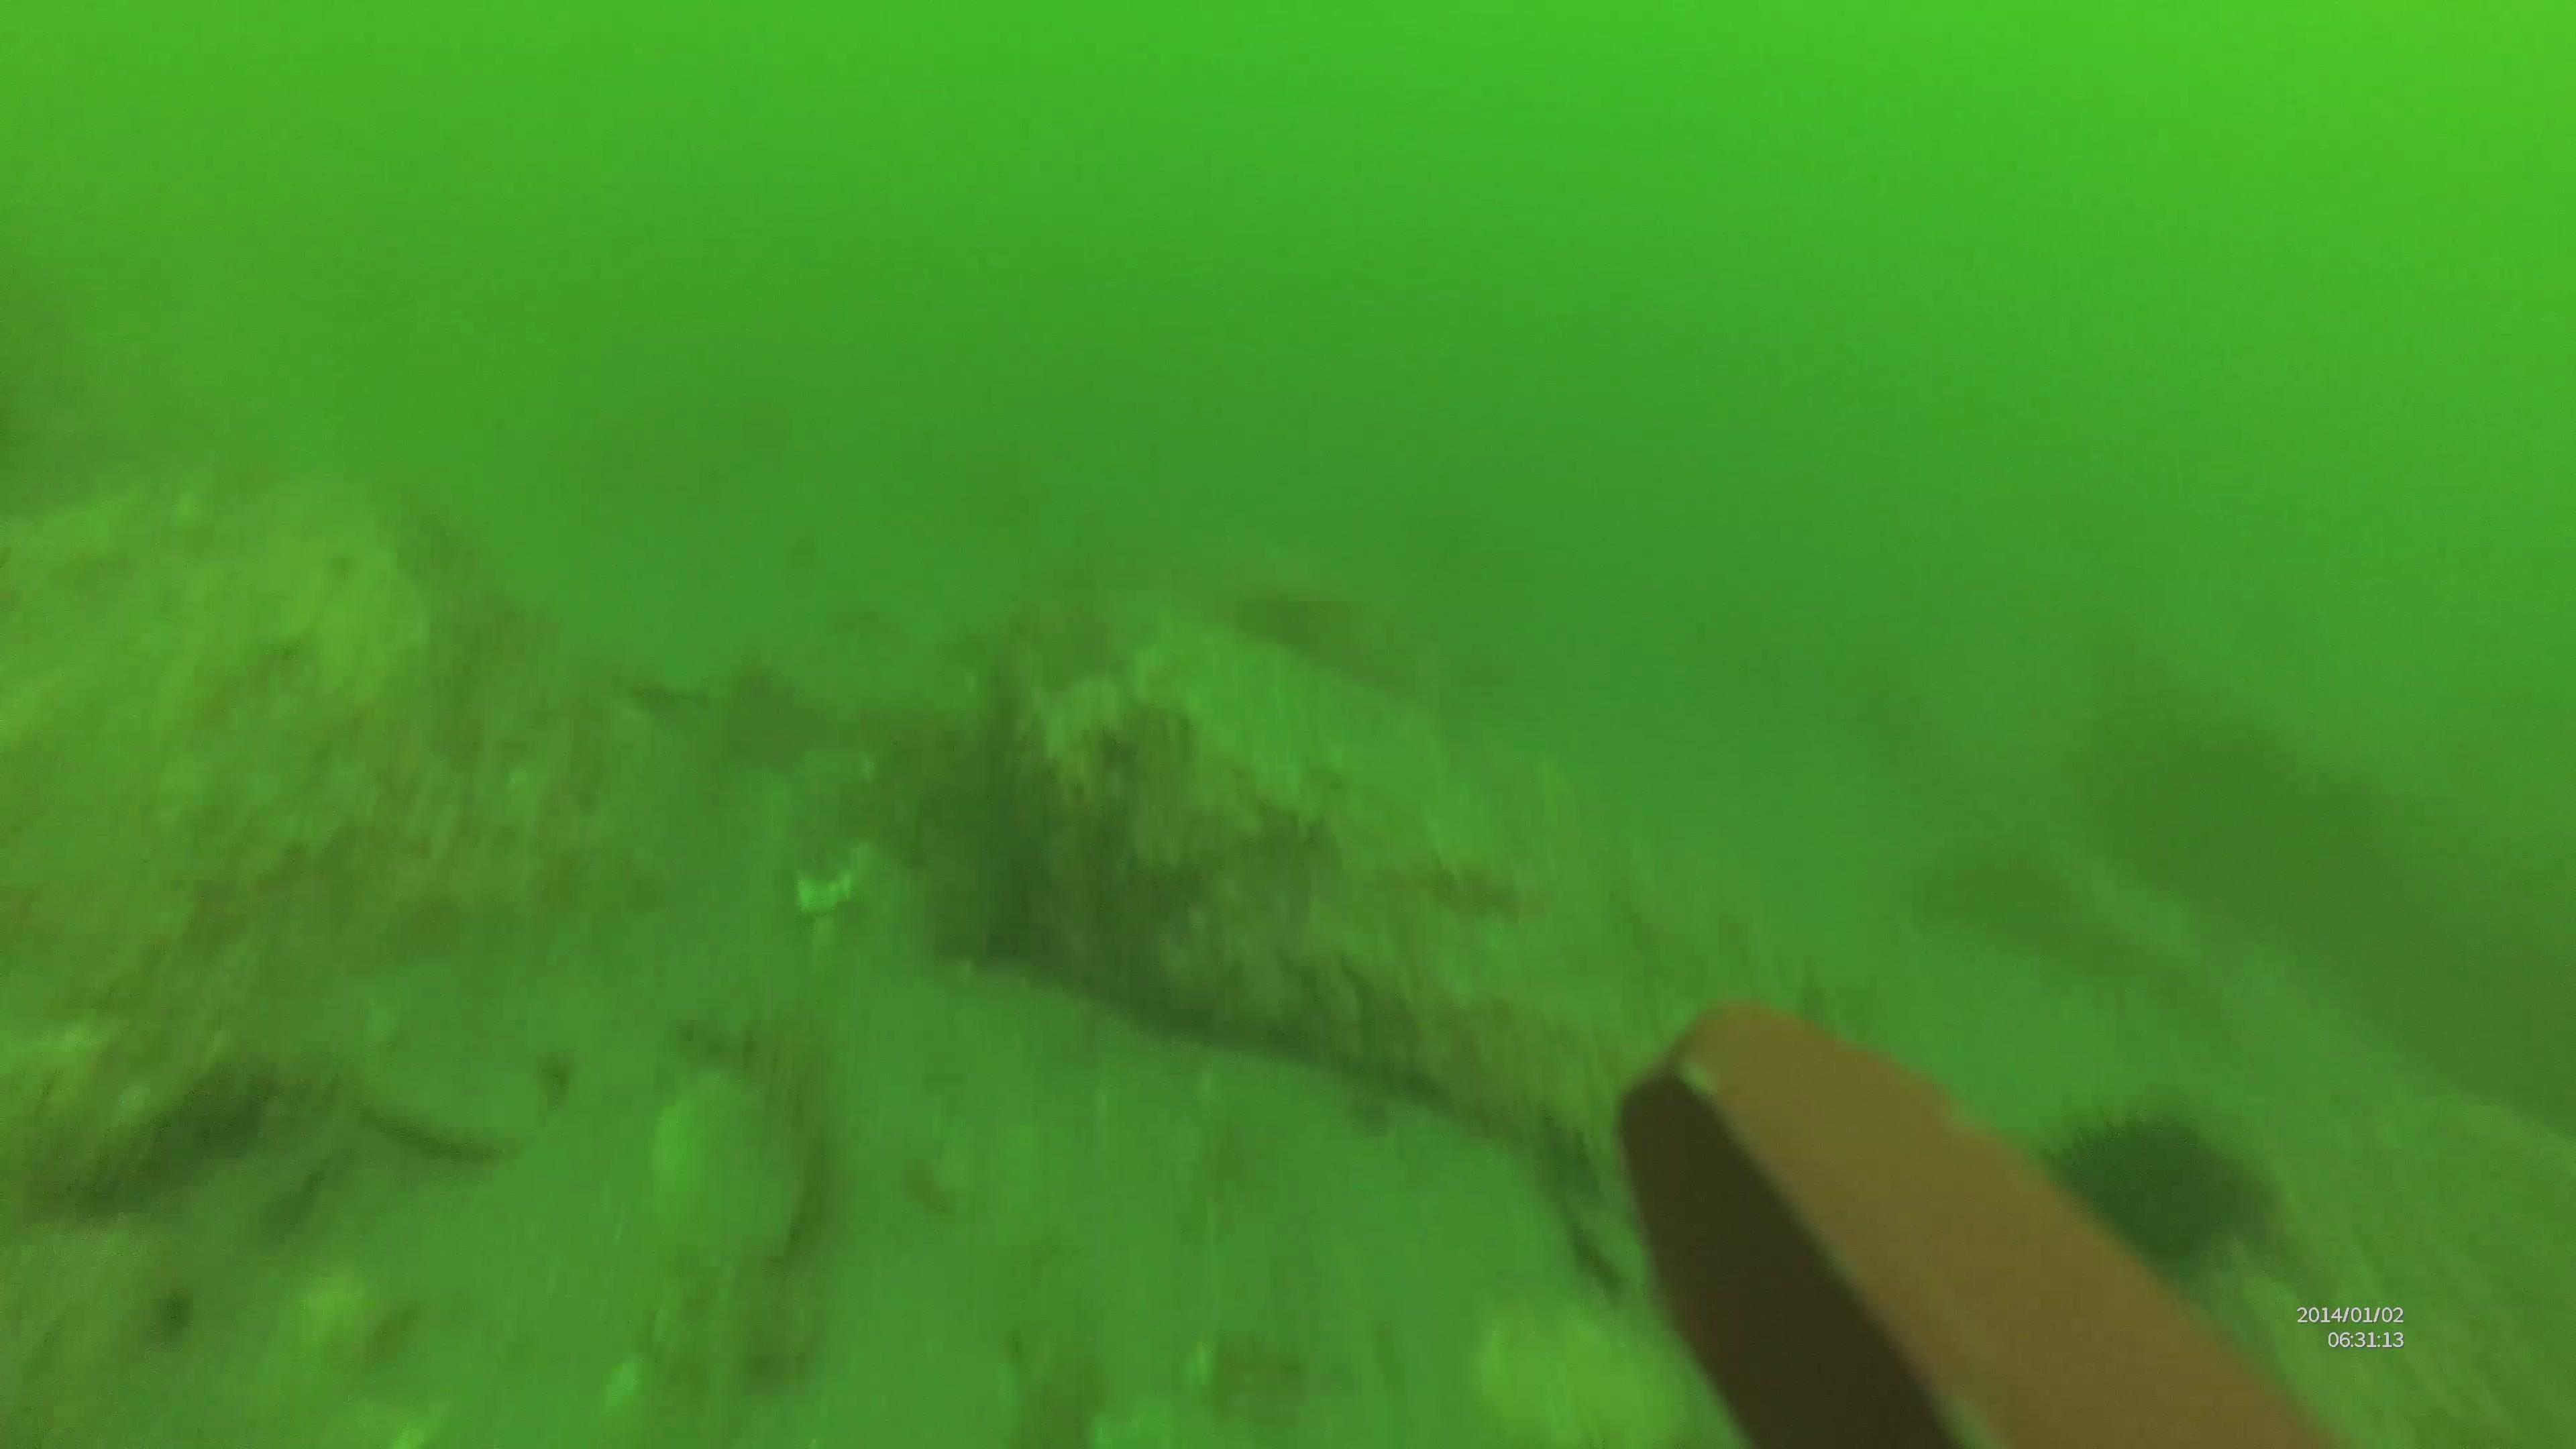echinus: (2038, 1100, 2265, 1272)
scallop: (1472, 1300, 1698, 1449)
